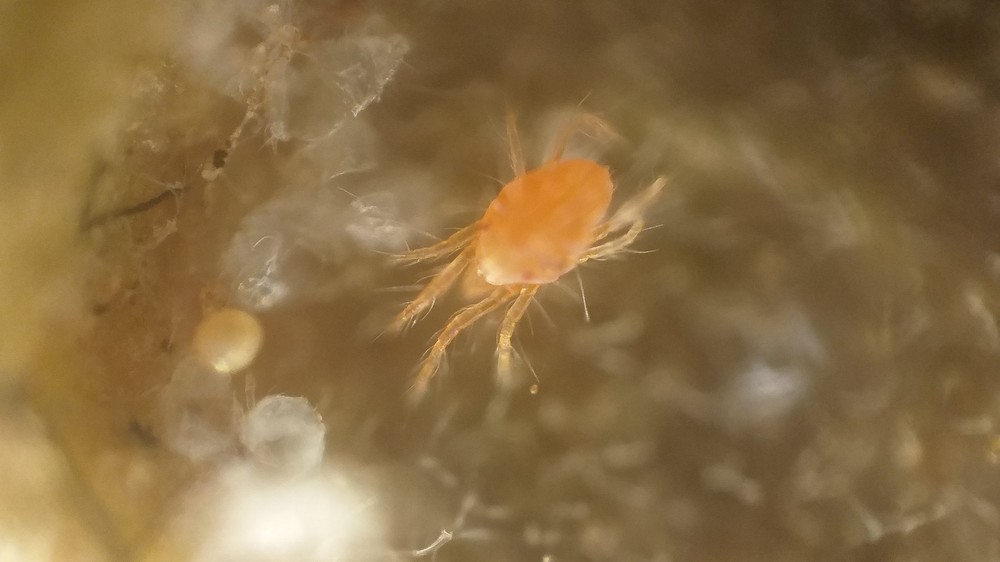Aracnido Rojo: (372, 90, 701, 411)
